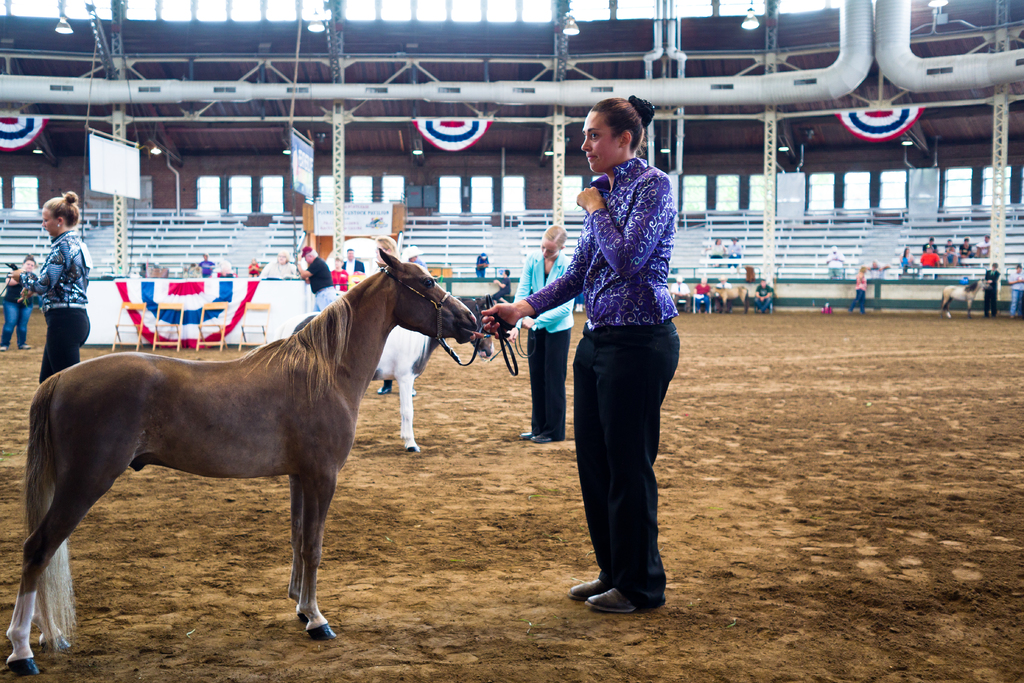horse: (2, 242, 477, 676)
